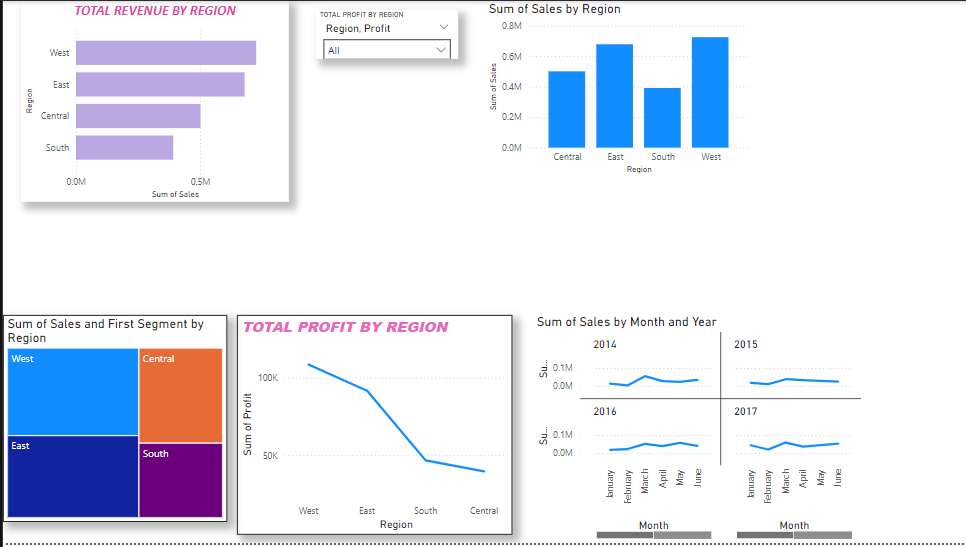

This screenshot's page, from the dashboard's own definition file:
{"tool":"powerbi","page":{"name":"Page 1","canvas":[1280,720],"ordinal":0},"visuals":[{"type":"barChart","title":"TOTAL REVENUE BY REGION","fields":{"Y":["Sum(Orders.Sales)"],"Category":["Orders.Region"]},"box":[23.9,0,356.2,267.2],"z":0},{"type":"slicer","title":"TOTAL PROFIT BY REGION","fields":{"Values":["Orders.Region","Orders.Profit"]},"box":[416,12,188.7,65.1],"z":1000},{"type":"lineChart","title":"TOTAL PROFIT BY REGION","fields":{"Y":["Sum(Orders.Profit)"],"Category":["Orders.Region"]},"box":[311,417.4,365.5,292.4],"z":2000},{"type":"treemap","fields":{"Values":["Sum(Orders.Sales)"],"Group":["Orders.Region"]},"box":[0,417.4,297.7,275.1],"z":3000},{"type":"lineChart","fields":{"Y":["Sum(Orders.Sales)"],"Category":["Orders.Order Date.Variation.Date Hierarchy.Month"],"Rows":["Orders.Order Date.Variation.Date Hierarchy.Year"]},"box":[704.5,416,441.3,304.4],"z":4000},{"type":"columnChart","fields":{"Y":["Sum(Orders.Sales)"],"Category":["Orders.Region","Orders.State"]},"box":[640.7,0,356.2,233.9],"z":5000}]}

Visuals, with their boxes in screenshot pixels (x1, y1, x2, y2), scaled from the page's 1280x720 canvas onto the 966x547 screenshot:
"TOTAL REVENUE BY REGION" barChart: [x1=18, y1=0, x2=287, y2=203]
"TOTAL PROFIT BY REGION" slicer: [x1=314, y1=9, x2=456, y2=59]
"TOTAL PROFIT BY REGION" lineChart: [x1=235, y1=317, x2=511, y2=539]
treemap - Sum(Orders.Sales) x Orders.Region: [x1=0, y1=317, x2=225, y2=526]
lineChart - Sum(Orders.Sales) x Orders.Order Date.Variation.Date Hierarchy.Month: [x1=532, y1=316, x2=865, y2=546]
columnChart - Sum(Orders.Sales) x Orders.Region: [x1=484, y1=0, x2=752, y2=178]
